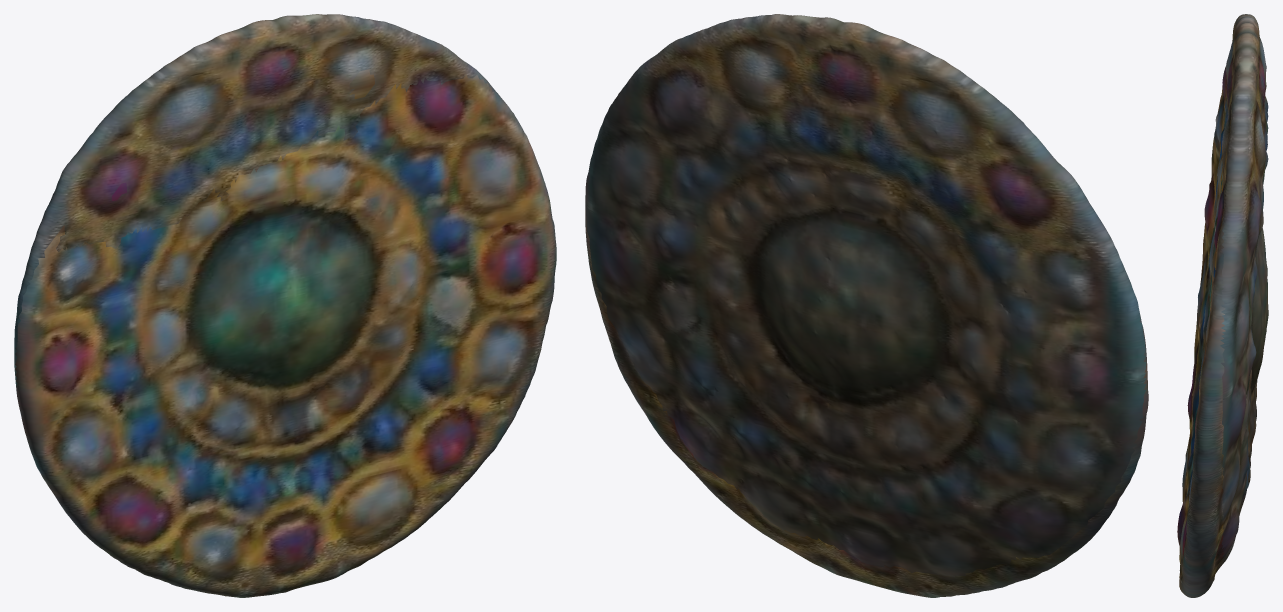
The model's file is kfl-2232.glb.
3 views of the same model, side by side, from view 1: azimuth 30°, elevation 25°; view 2: azimuth 150°, elevation 25°; view 3: azimuth 270°, elevation 25° (orthographic). The views are drawn at different scales.
Visible parts, largest first — view 1: geometry_0; view 2: geometry_0; view 3: geometry_0.
Boxes of the visible parts, box(x1,y1,x2,y2) form: geometry_0: box(14, 14, 556, 597); geometry_0: box(585, 14, 1148, 597); geometry_0: box(1177, 14, 1268, 597).
Size of the model in its own units: 0.9912 by 0.9788 by 0.1519.
1 material, 1 textured.
